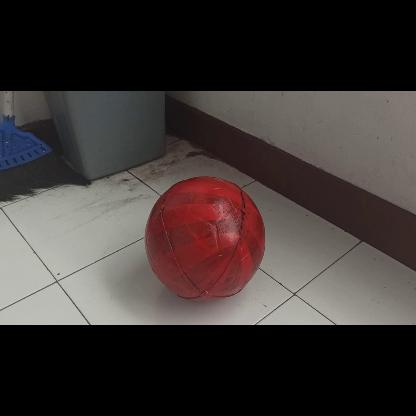red_ball: (144, 176, 268, 300)
